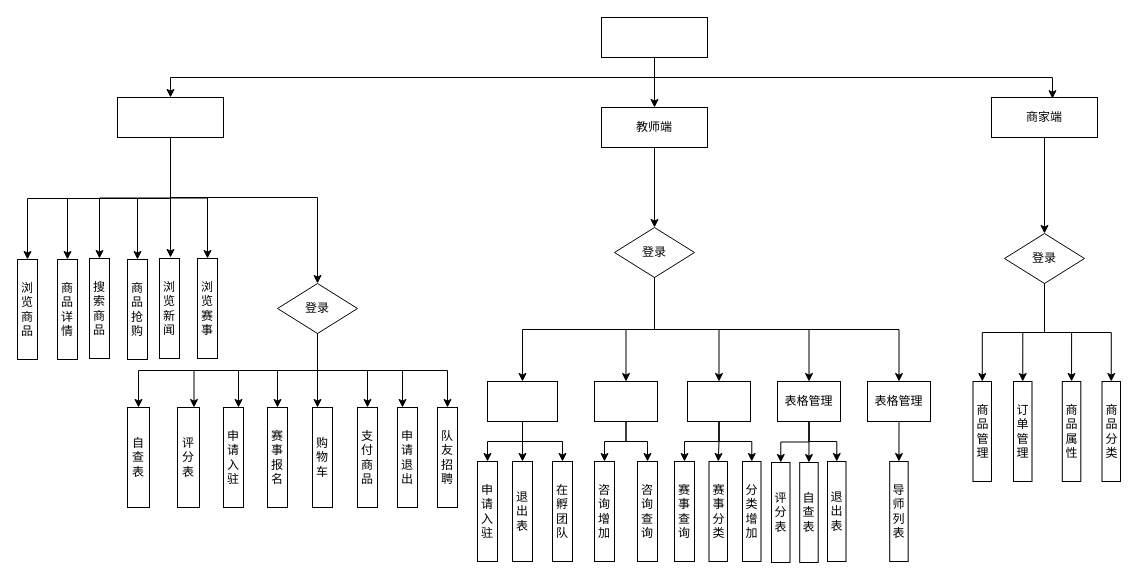
Image size: 1138x580. Some labels were removed from this diagram. The shapes that lost their labels are listed below. From the top down, each one's centre as x and y in pixels, then its label:
(x=654, y=37): 团队管理系统
(x=170, y=117): 学生端
(x=522, y=401): 团队管理
(x=626, y=401): 咨询管理
(x=718, y=401): 赛事管理
